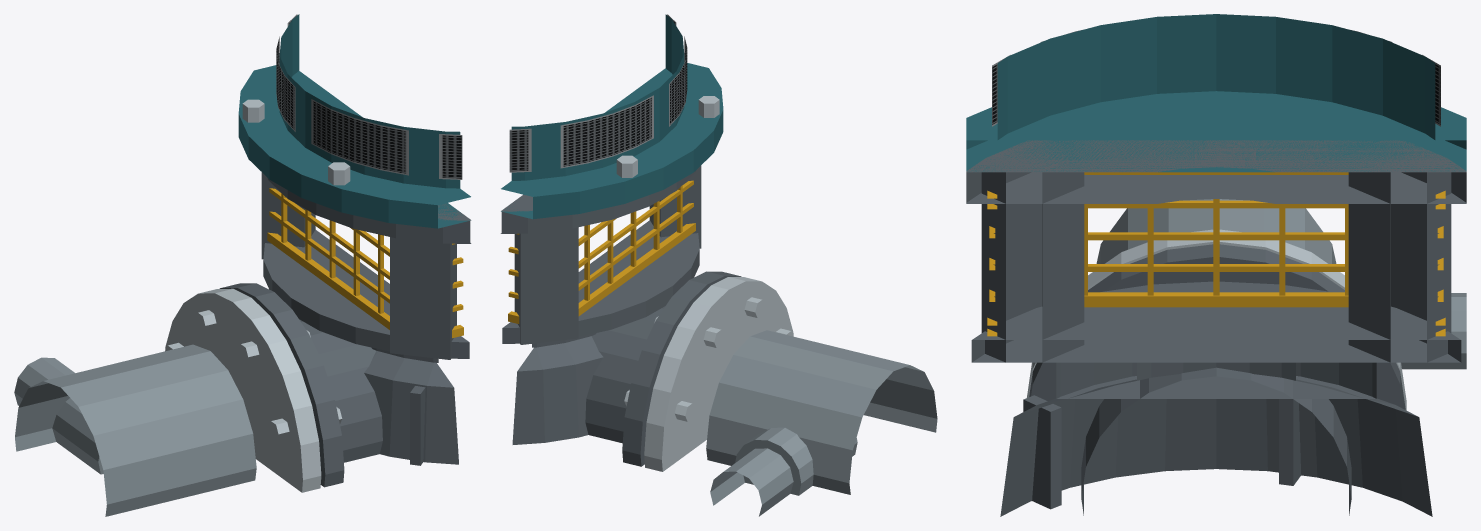
File: cell_31.obj
3 views of the same model, side by side, from view 1: azimuth 30°, elevation 25°; view 2: azimuth 150°, elevation 25°; view 3: azimuth 270°, elevation 25° (orthographic). The views are drawn at different scales.
Size of the model in its own units: 1 by 1 by 1.
